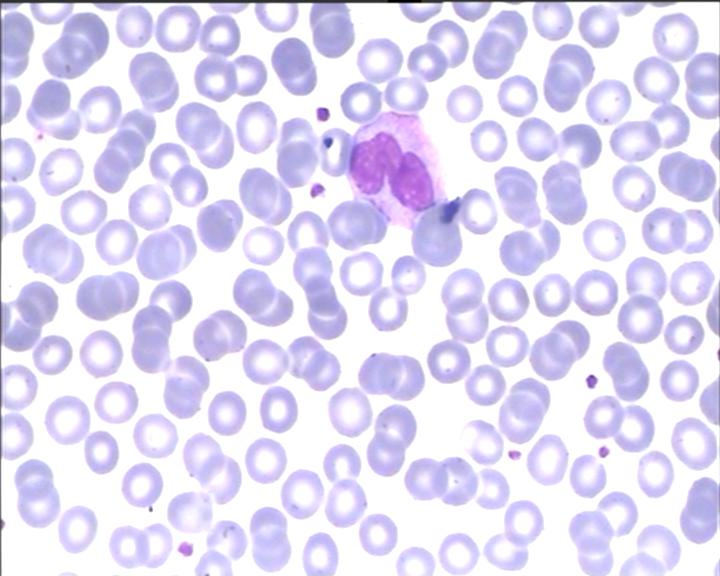mono: (345, 109, 447, 229)
